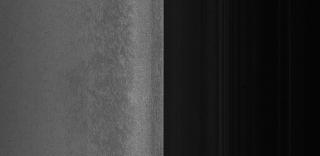silk spot: (102, 24, 138, 118)
